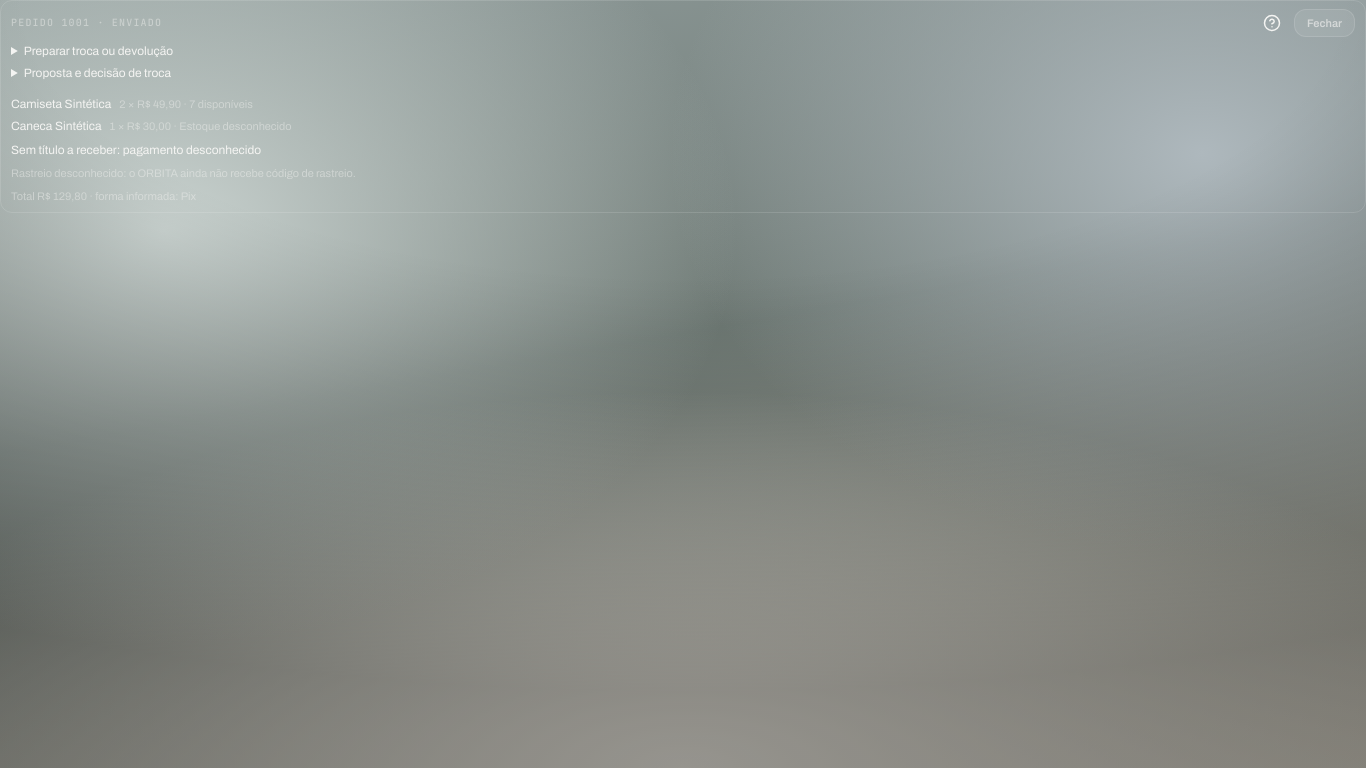
Test: RetratoDoPedido › prepara uma troca no cockpit e deixa a decisão bloqueada
Click the heading "Preparar troca ou devolução" at (98, 51), box left=24, top=44, right=173, bottom=58
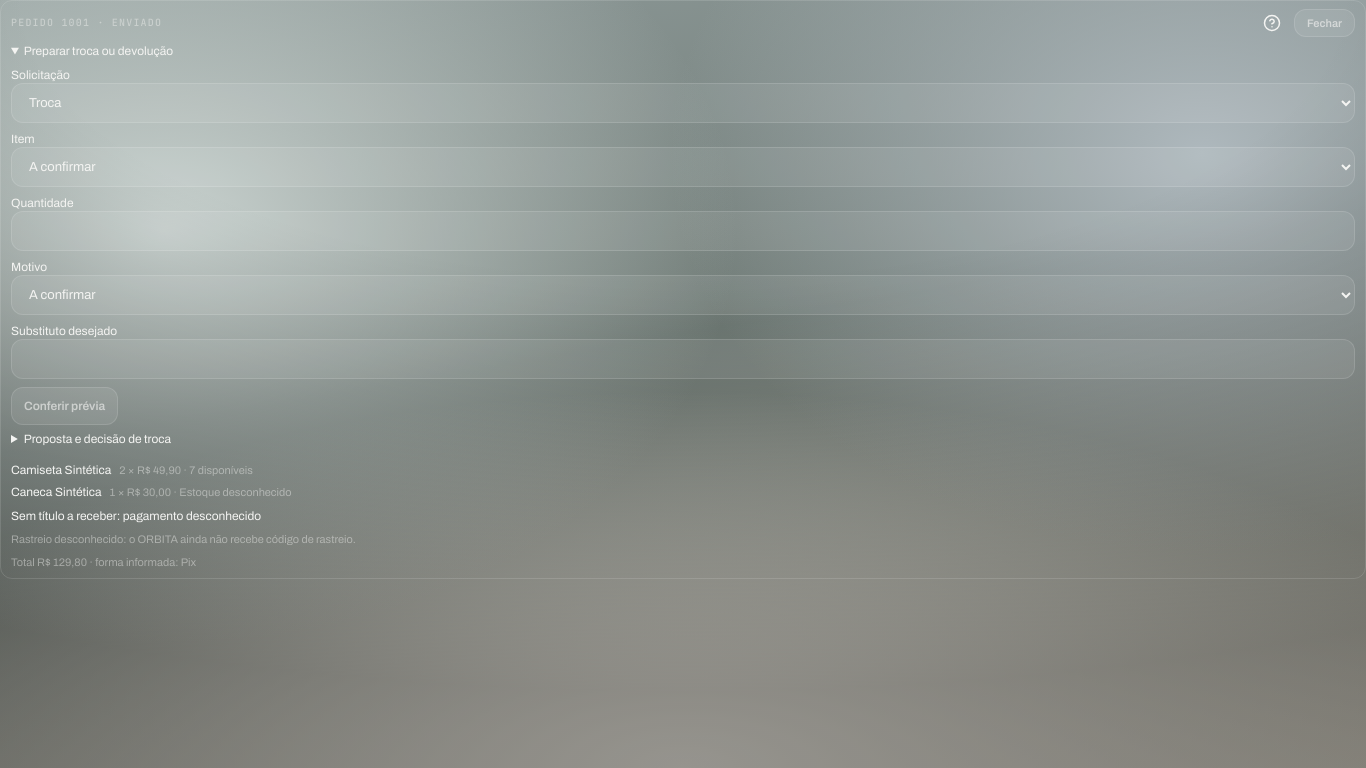
Select "Camiseta Sintética" in the dropdown labelled "Item" at (683, 167), box left=11, top=147, right=1355, bottom=187
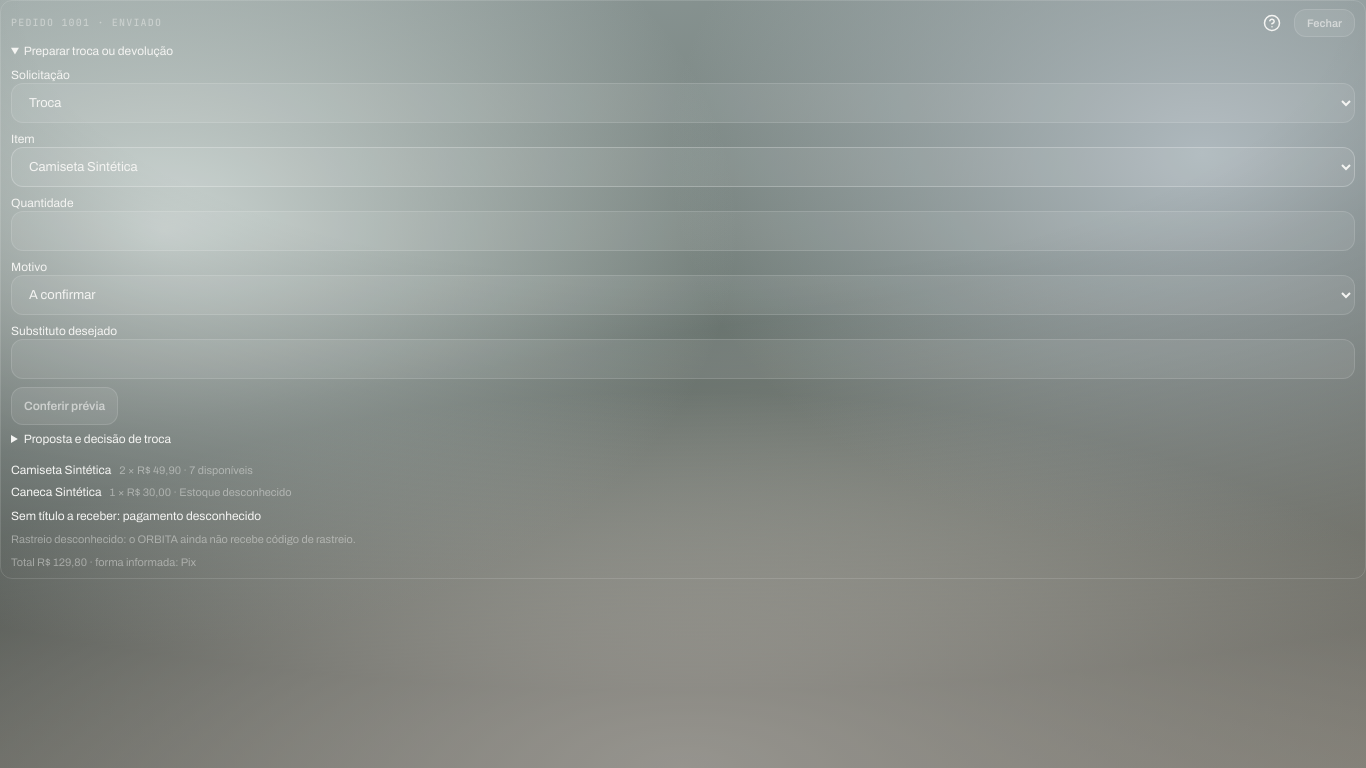
Type "1" into the number field labelled "Quantidade" at (683, 231), box left=11, top=211, right=1355, bottom=251
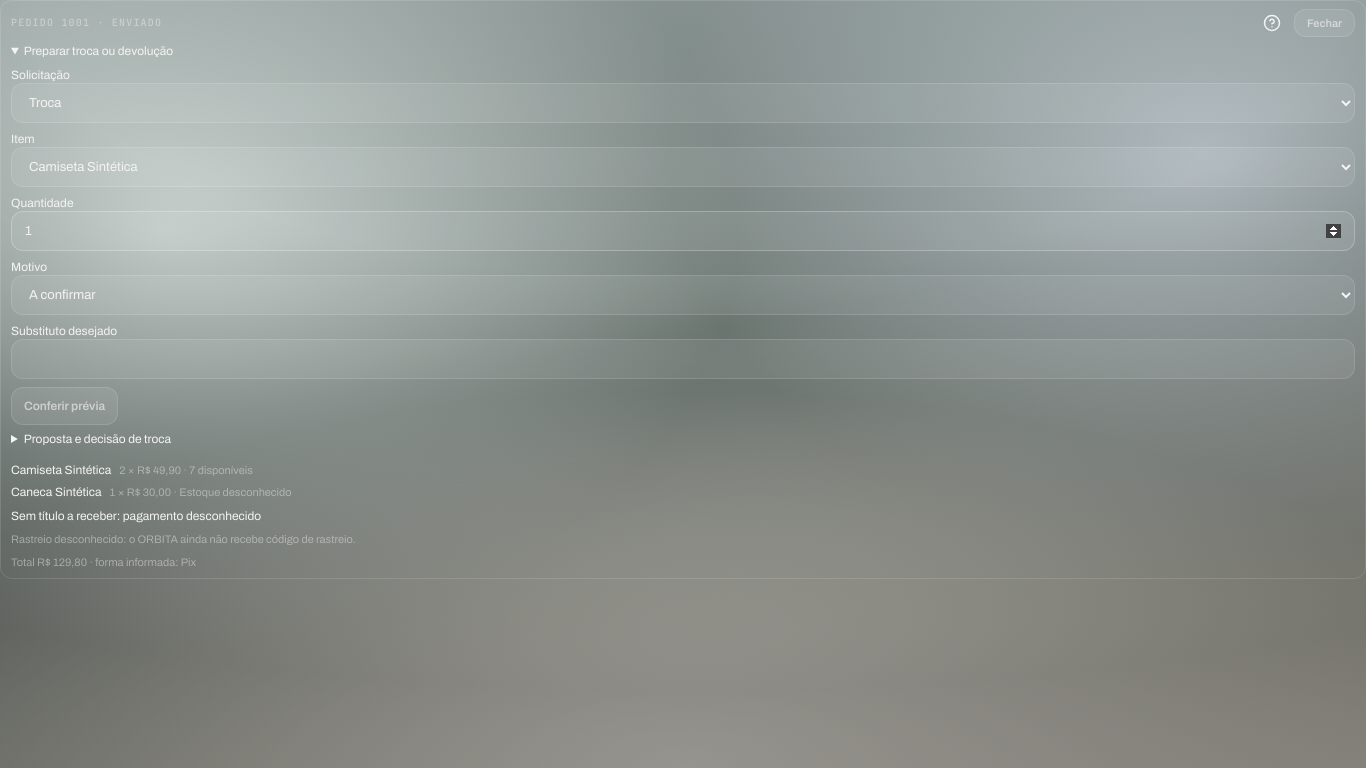
Select "Avaria" in the dropdown labelled "Motivo" at (683, 295), box left=11, top=275, right=1355, bottom=315
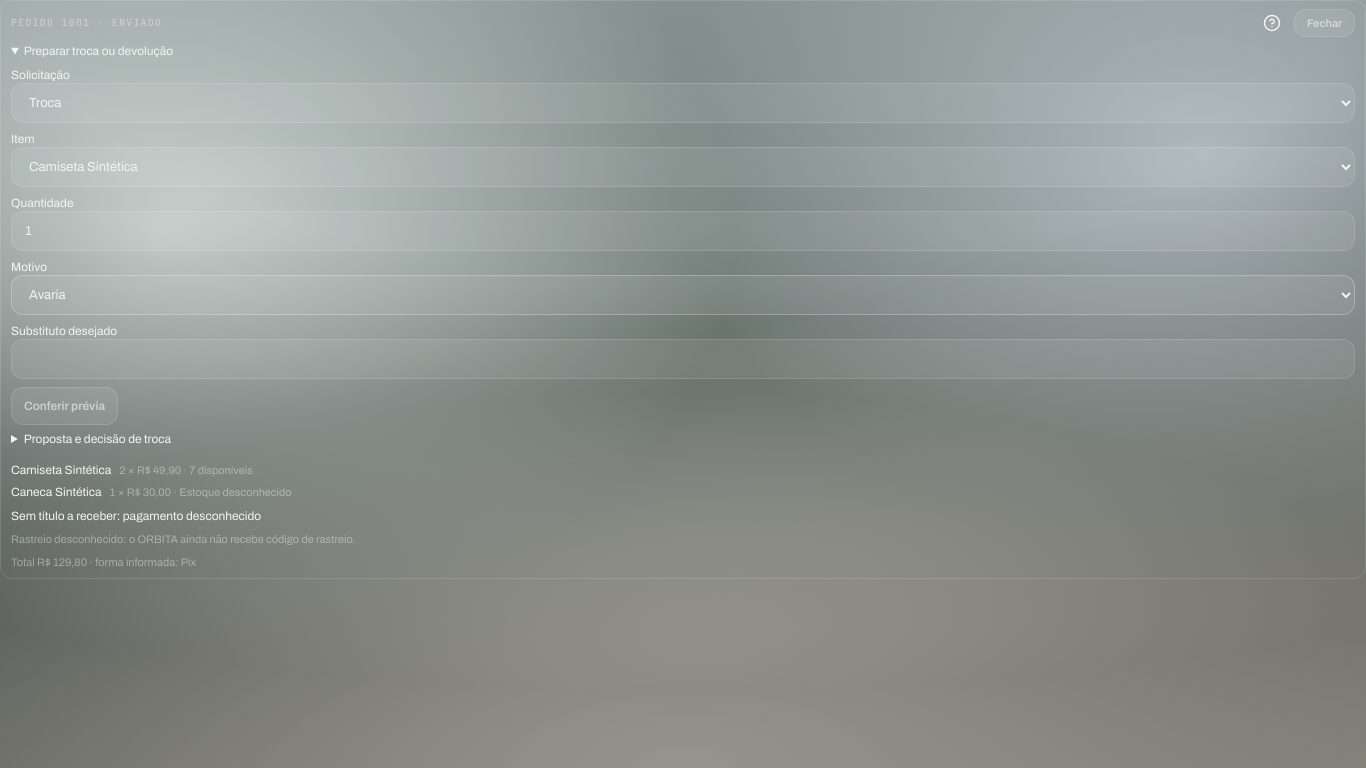
Type "Camiseta azul" into the field labelled "Substituto desejado" at (683, 359), box left=11, top=339, right=1355, bottom=379
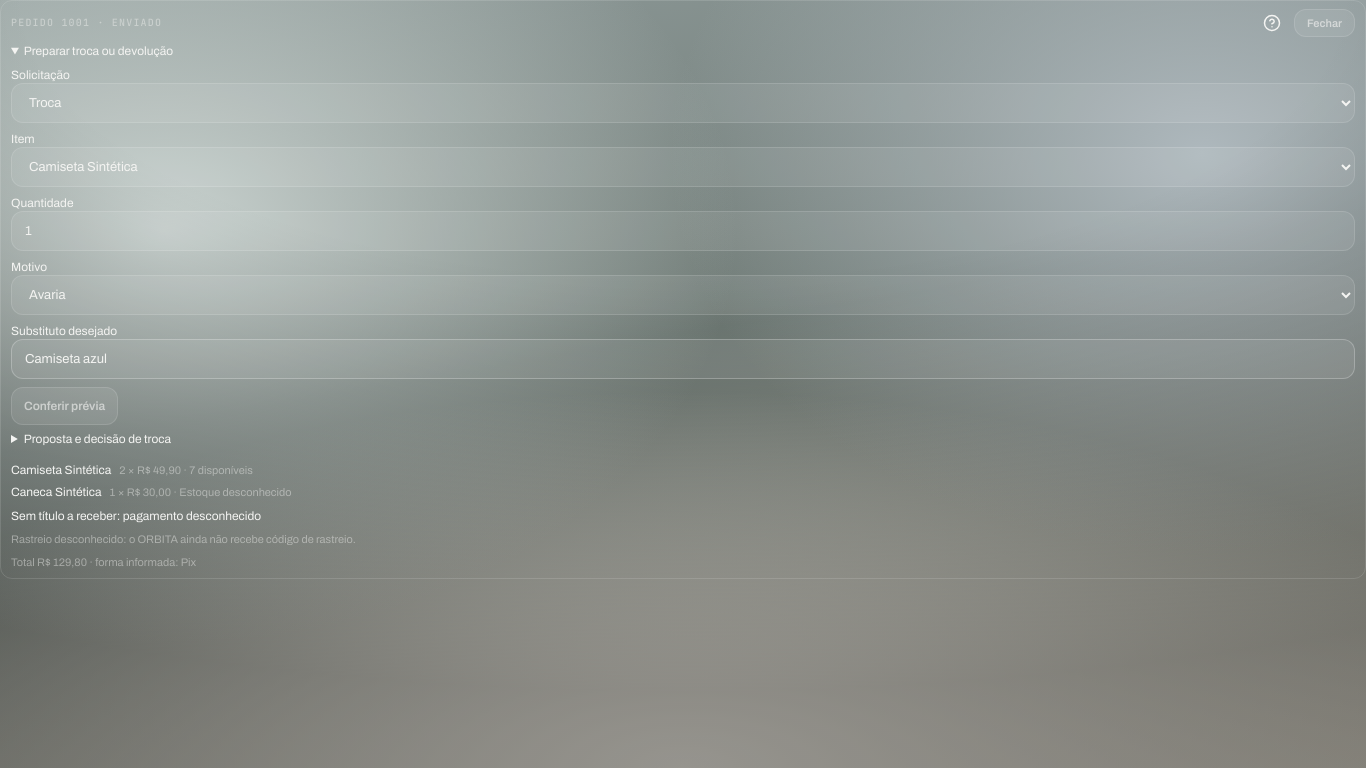
Click the button "Conferir prévia" at (65, 406), box left=11, top=387, right=118, bottom=425
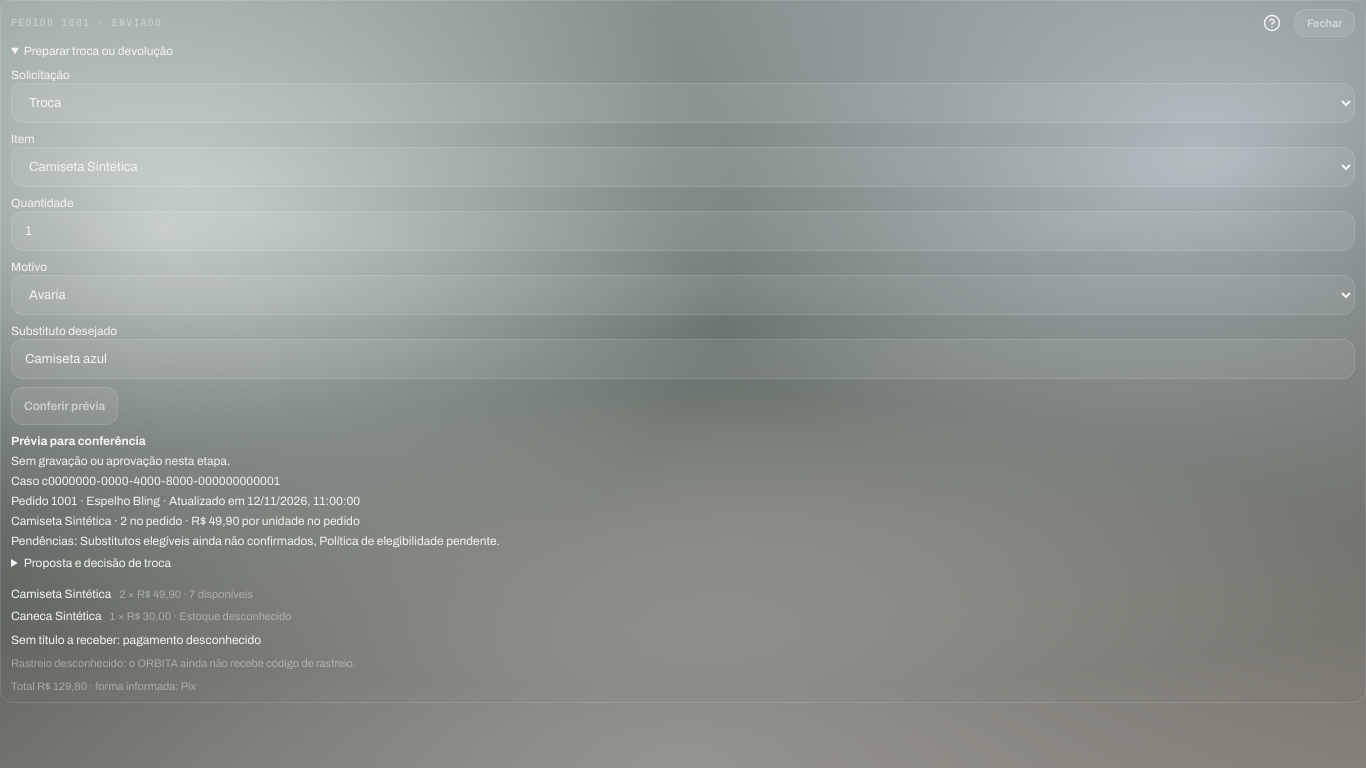
Result: the element named "Prévia da proposta" shows "49,90" at left=191, top=514, right=239, bottom=528
Result: the element named "Prévia da proposta" shows "Política de elegibilidade pendente" at left=80, top=534, right=497, bottom=548
